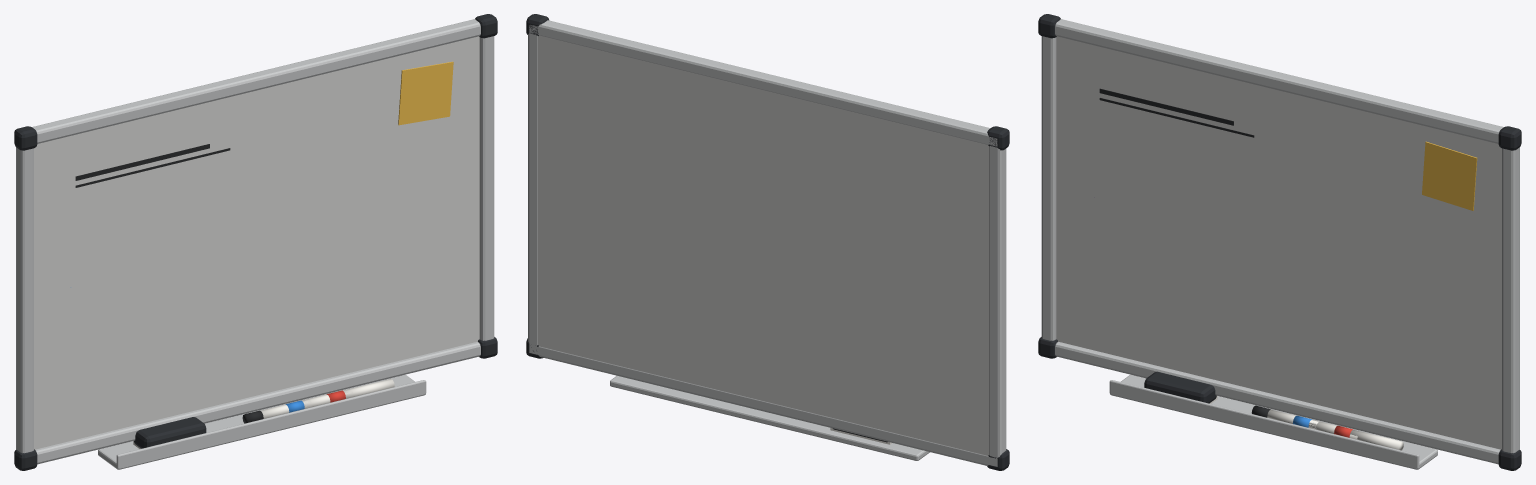
Rendered from whiteboard.glb.
The picture shows the model from 3 angles, left to right: view 1: azimuth 30°, elevation 25°; view 2: azimuth 150°, elevation 25°; view 3: azimuth 330°, elevation 25°; orthographic projection.
Visible parts, largest first — view 1: whiteboard; view 2: whiteboard; view 3: whiteboard.
Part boxes in pixels (x1,y1,x2,y2): whiteboard: (14,14,497,470); whiteboard: (526,14,1009,470); whiteboard: (1038,14,1521,470).
Bounding box in the file's own units: 0.93 × 0.647 × 0.07.
